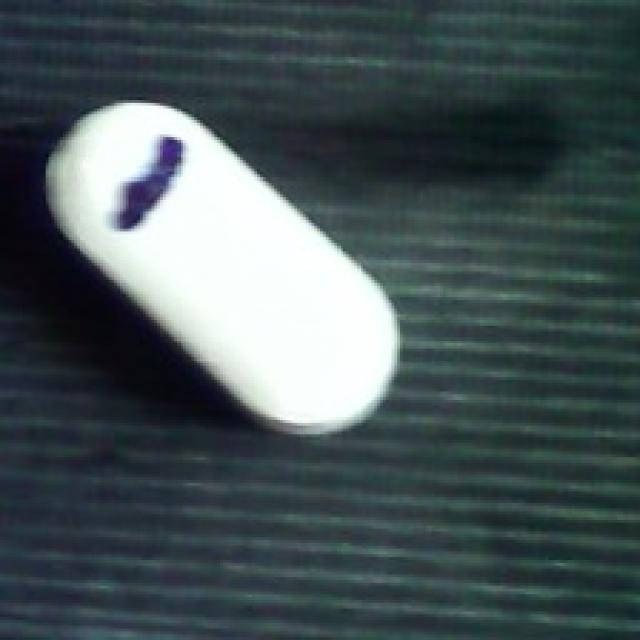defected: (44, 99, 406, 443)
